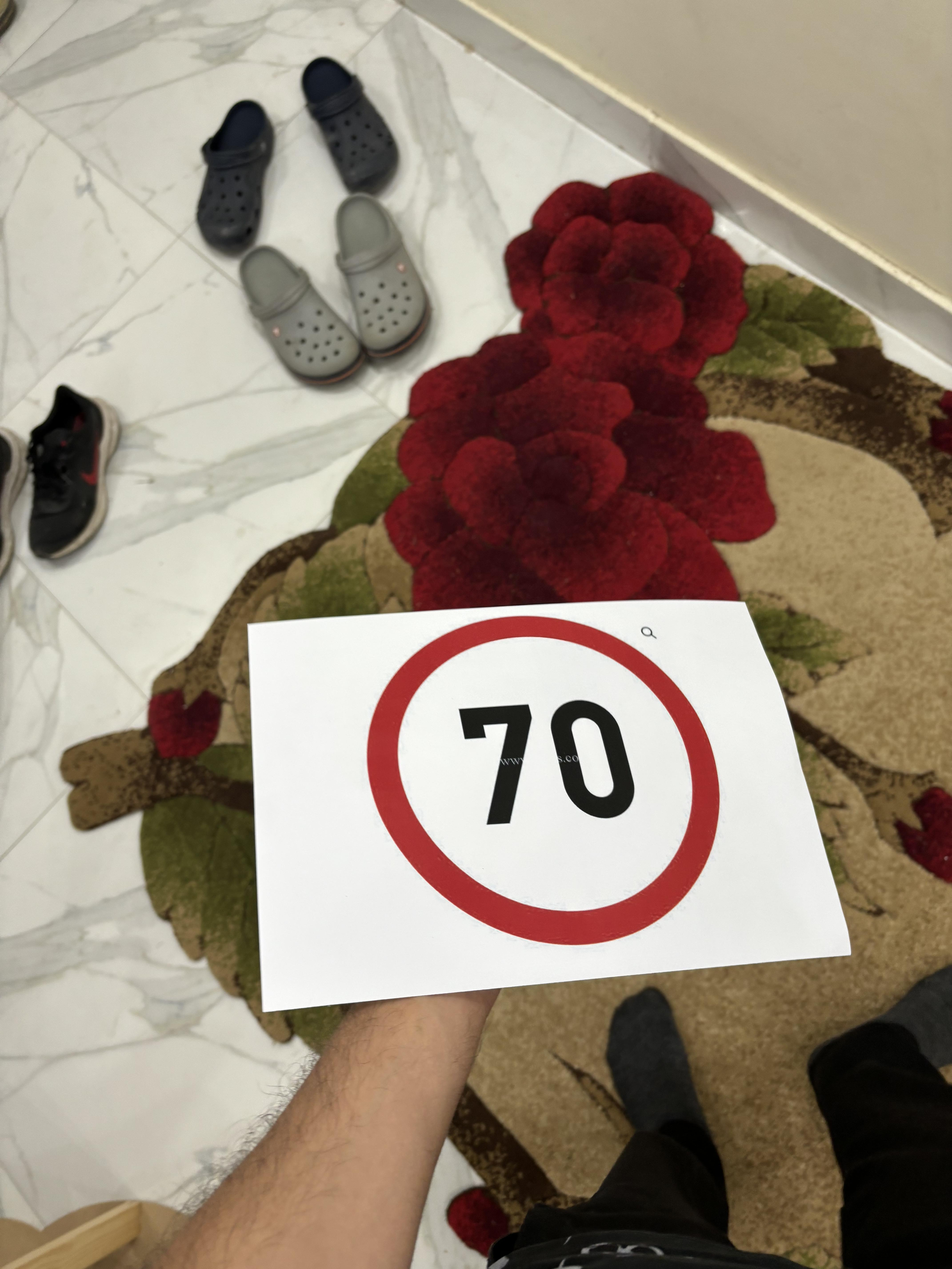70-Speed: (363, 611, 723, 947)
